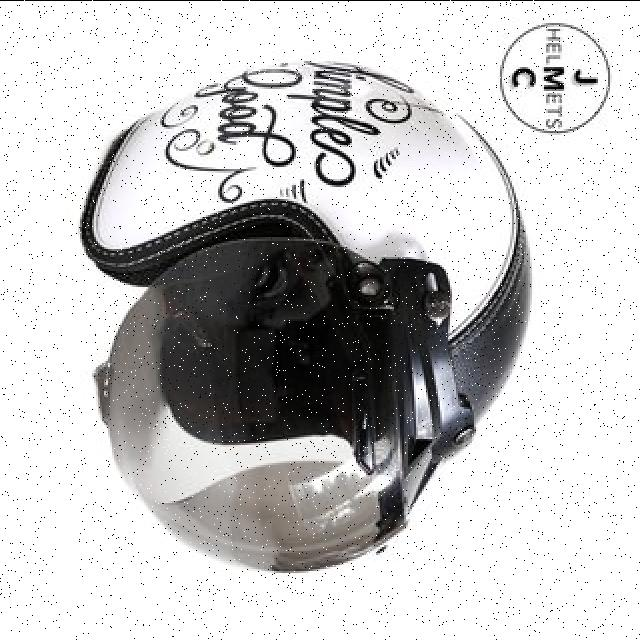Helmet: (78, 54, 532, 570)
